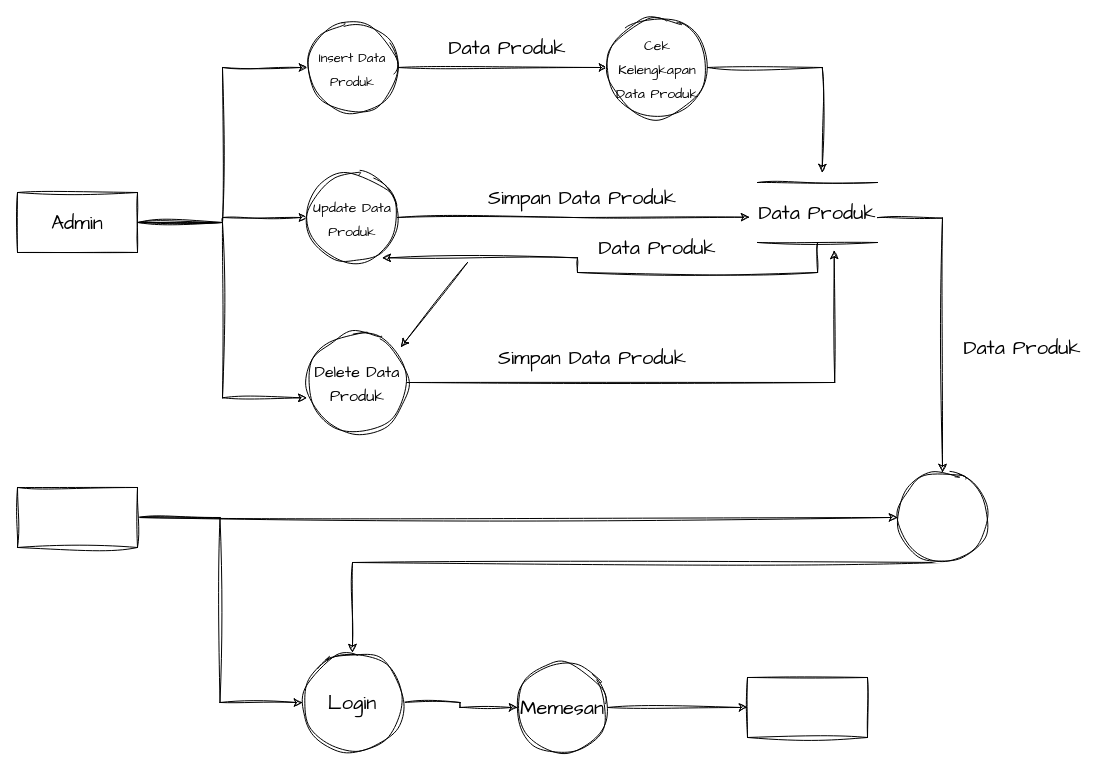
Some shapes in this 1105 by 770 pixel diagram are drawn without their labels. The shapes that lost their labels are listed below. From the top down, each one's centre as x and y in pixels, then its label:
[77,517]: Customer
[942,517]: Tampilkan Data Produk
[807,707]: Pembayaran
